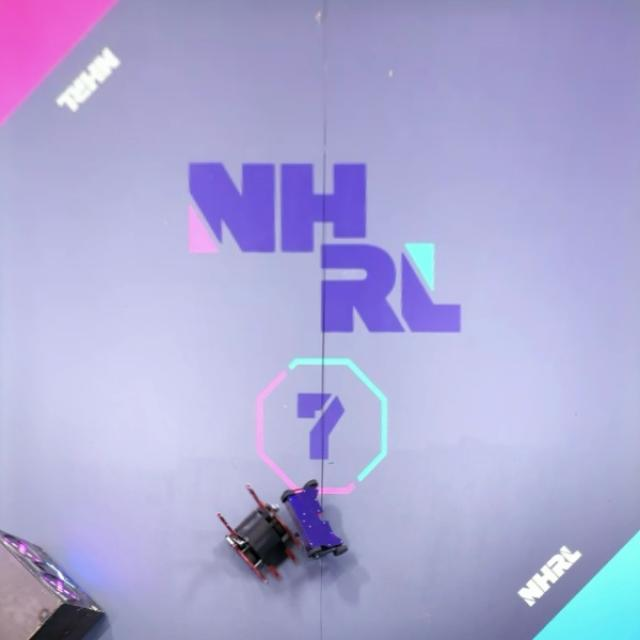housebot: (0, 528, 108, 640)
robot: (215, 485, 304, 583), (281, 478, 350, 560)
